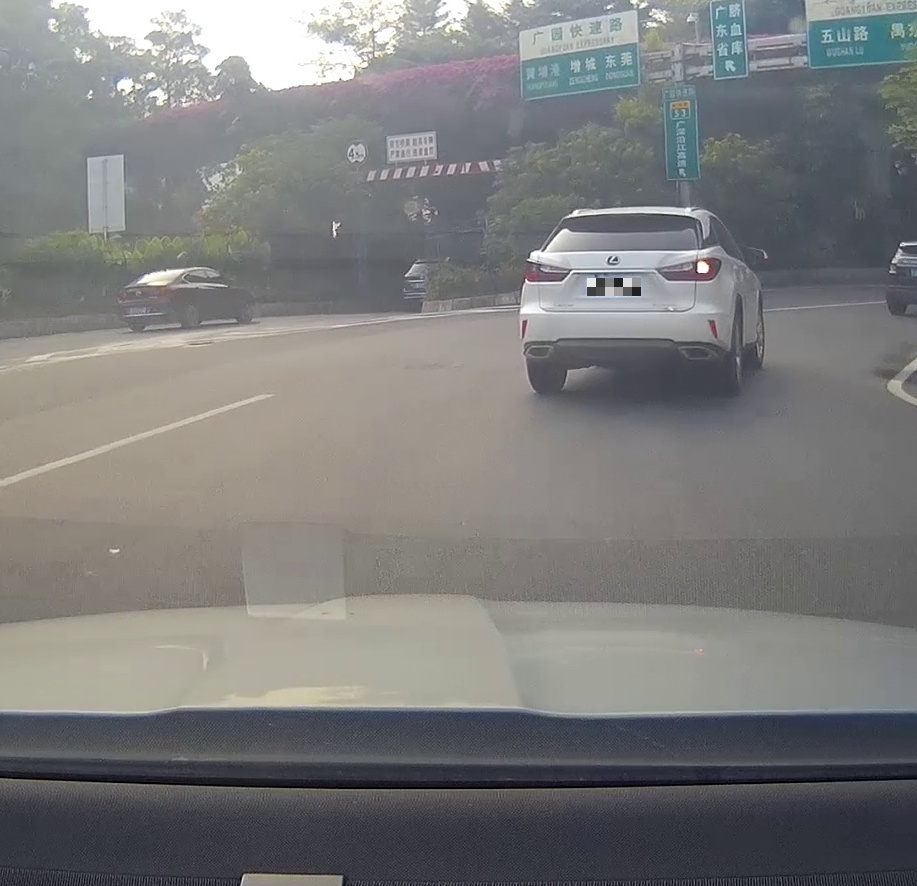L_light: (524, 259, 572, 283), (118, 289, 131, 301)
R_light: (656, 257, 722, 281), (152, 285, 176, 300), (157, 272, 169, 274)
T_light: (611, 214, 642, 219)
day-no: (116, 268, 188, 331)
day-right: (518, 208, 727, 394)
plate_1: (587, 278, 641, 296)
